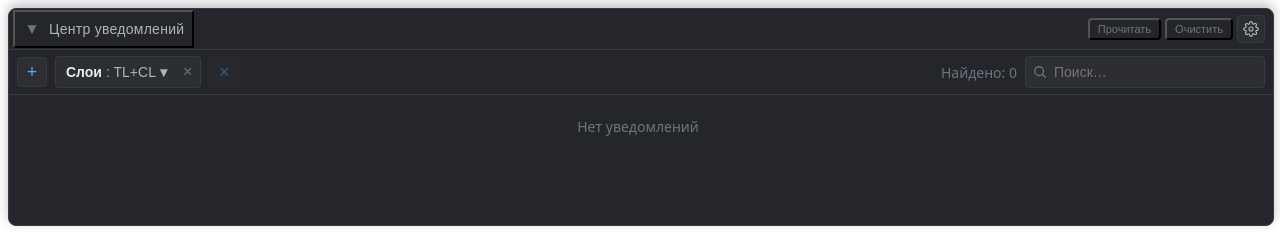
Test: NotificationDock › collapses to header-only height control
Click the button "▴ Центр уведомлений". click: (104, 29)
box: [13,10,194,48]
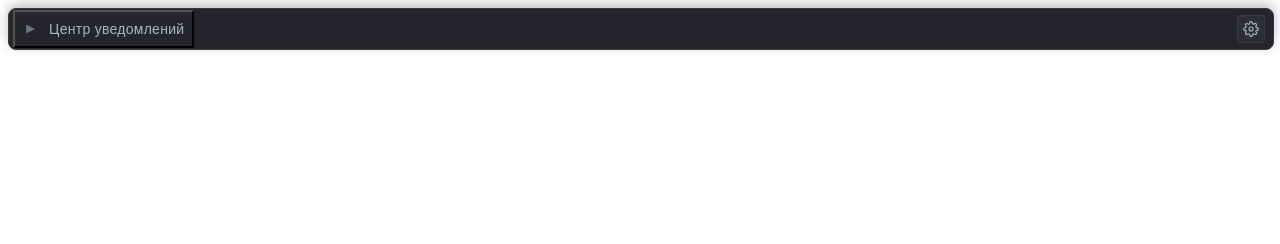
Result: the button "▴ Центр уведомлений" is collapsed at [13,10,194,48]
Result: the field with placeholder "Поиск…" is gone
